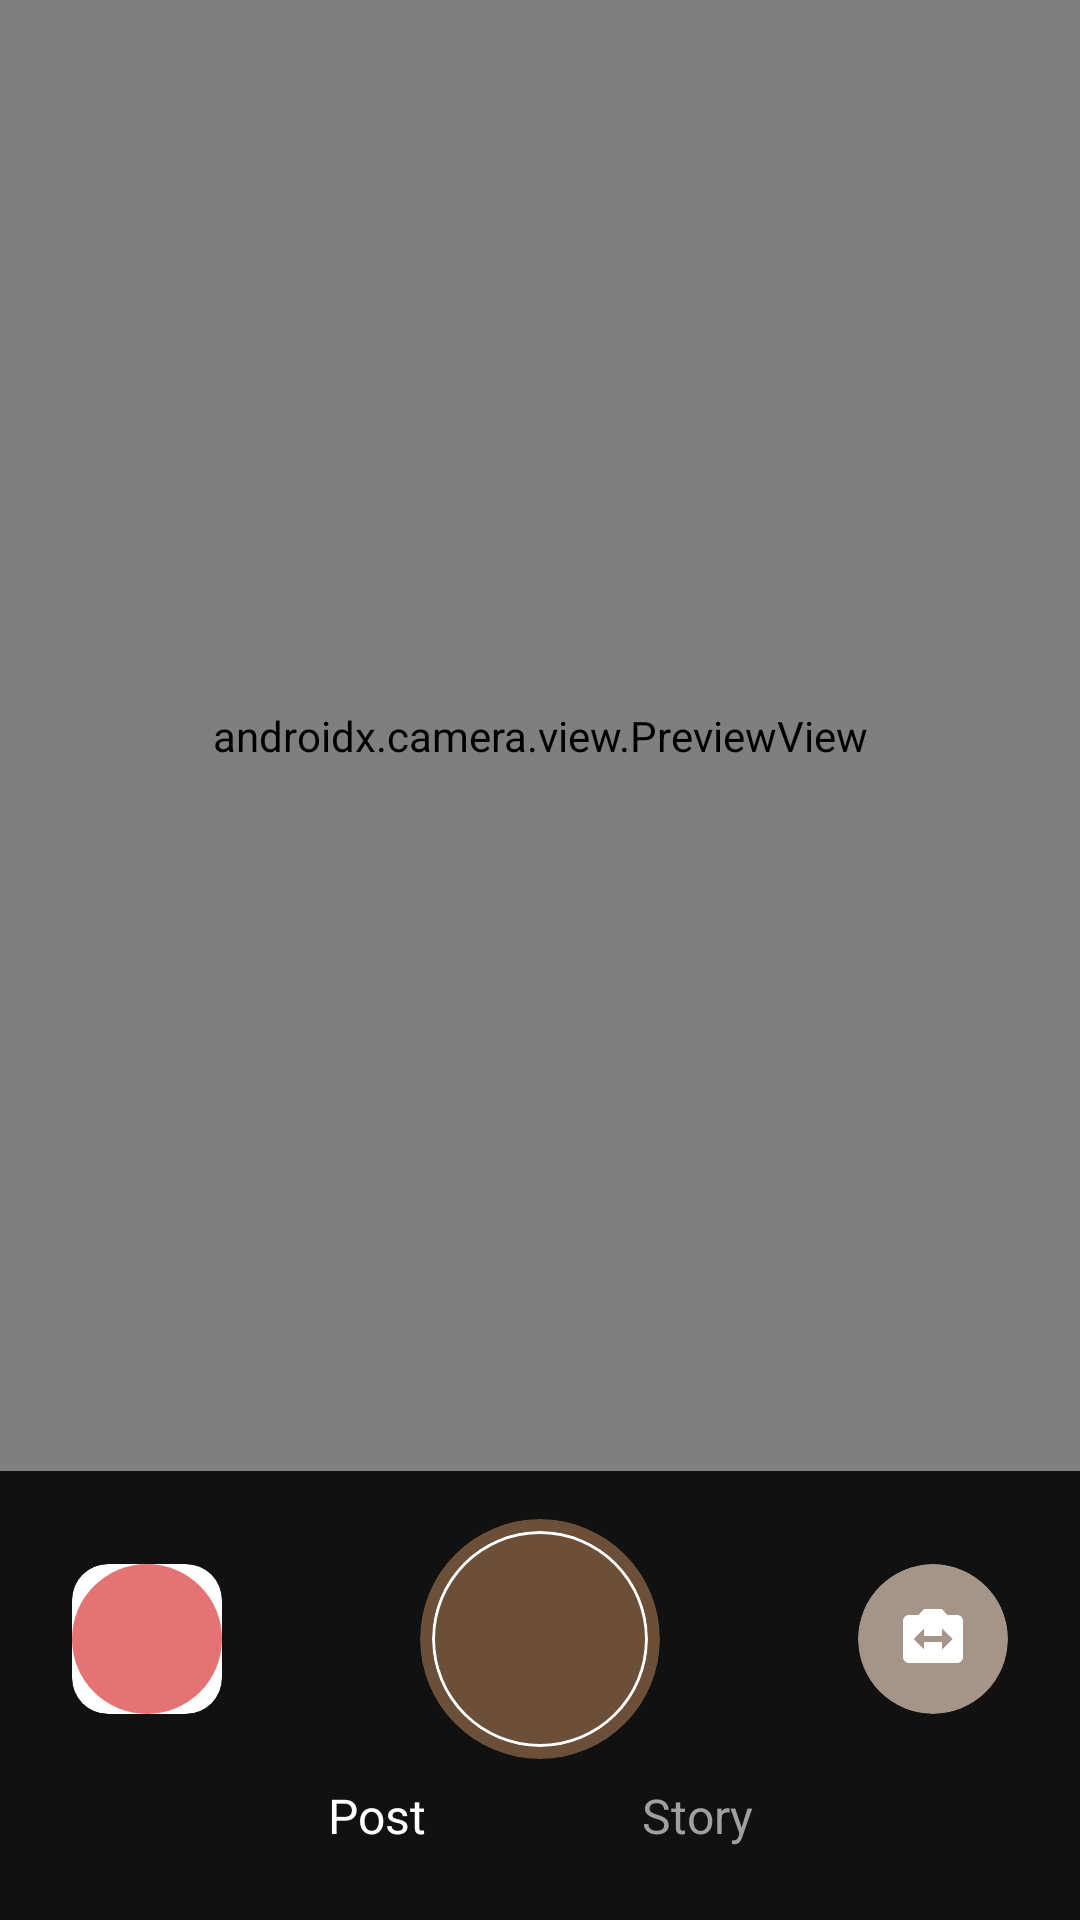

Icon click points for this 1080px×1920px phone screenshot, format (x=x, y=y):
switch camera: (x=933, y=1636)
